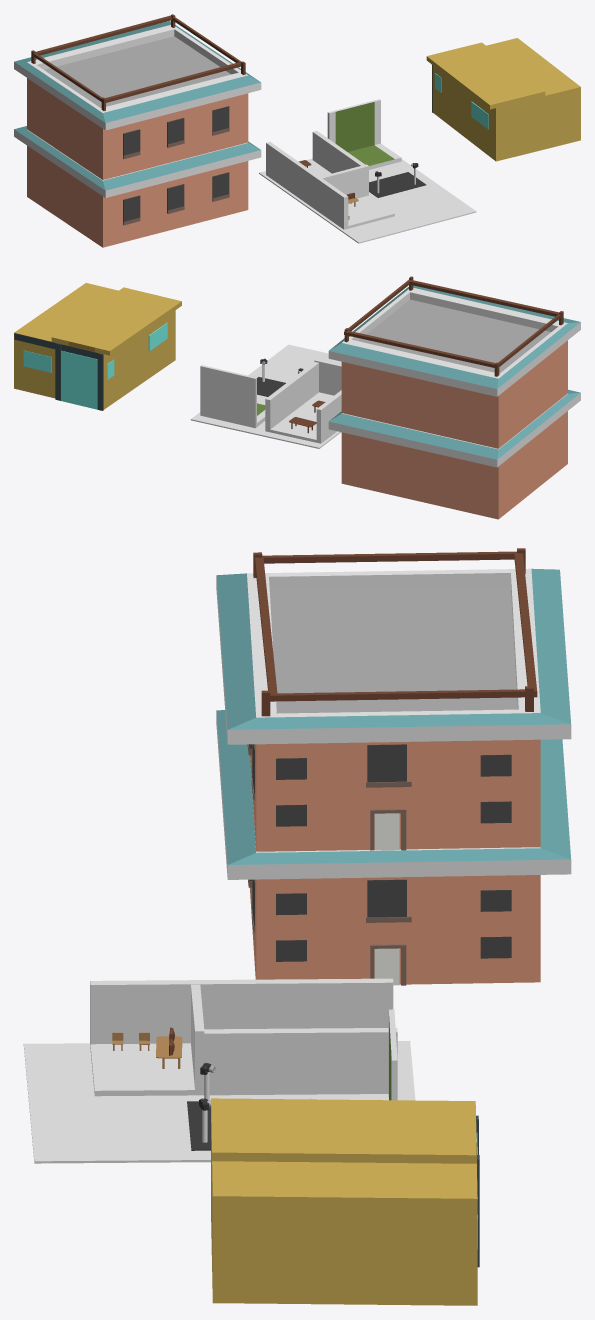
The model's file is Starting Point.glb.
3 renders of one model, top to bottom at view 1: azimuth 30°, elevation 25°; view 2: azimuth 150°, elevation 25°; view 3: azimuth 270°, elevation 25°, orthographic. The views are drawn at different scales.
Visible parts, largest first — view 1: pCube274.001; view 2: pCube274.001; view 3: pCube274.001.
Part boxes in pixels (x1,y1,x2,y2): pCube274.001: (14, 14, 580, 247); pCube274.001: (14, 276, 580, 519); pCube274.001: (23, 548, 571, 1305).
Size of the model in its own units: 28.9 by 8.65 by 14.19.
